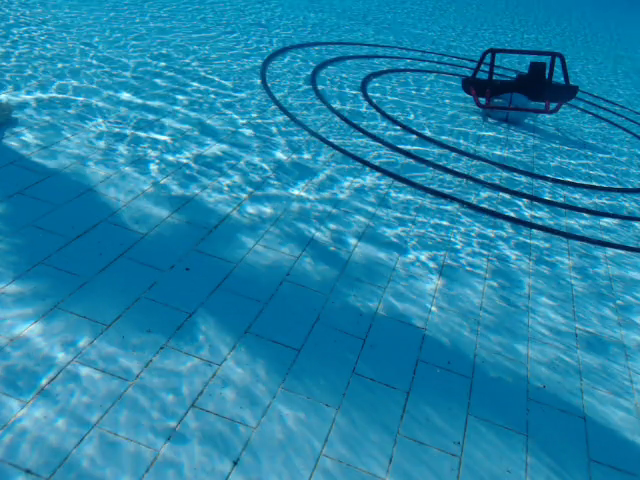submarine: (461, 46, 579, 118)
